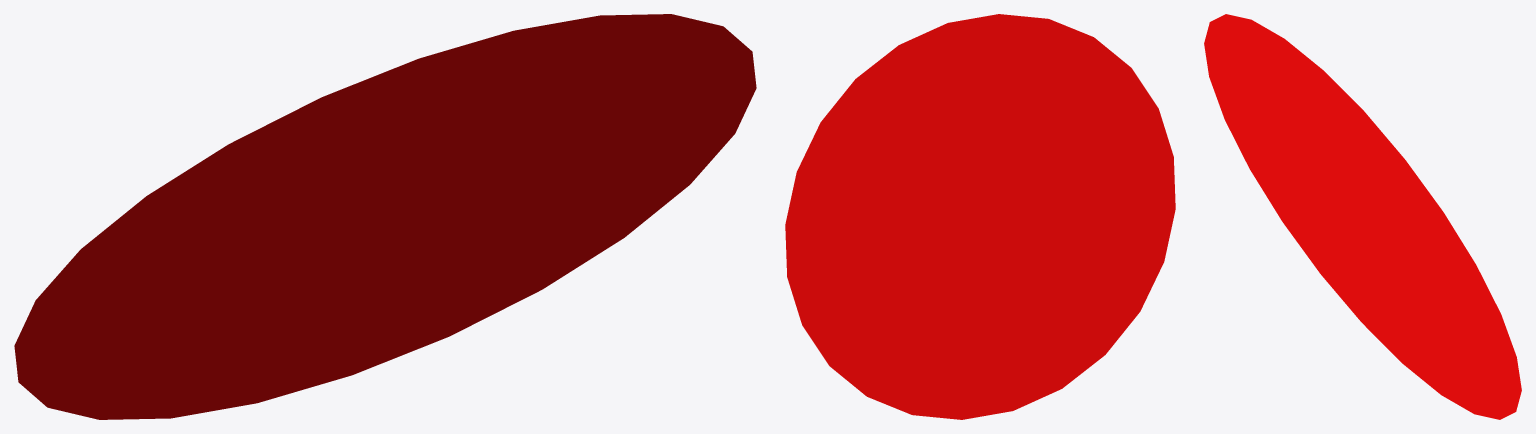
File: original-3.obj
3 views of the same model, side by side, from view 1: azimuth 30°, elevation 25°; view 2: azimuth 150°, elevation 25°; view 3: azimuth 270°, elevation 25° (orthographic). The views are drawn at different scales.
Visible parts, largest first — view 1: mesh6/mesh6-geometry#mesh6-geometry; view 2: mesh6/mesh6-geometry#mesh6-geometry; view 3: mesh6/mesh6-geometry#mesh6-geometry.
Boxes of the visible parts, x1,y1,x2,y2 form: mesh6/mesh6-geometry#mesh6-geometry: [14, 14, 756, 419]; mesh6/mesh6-geometry#mesh6-geometry: [785, 14, 1175, 419]; mesh6/mesh6-geometry#mesh6-geometry: [1204, 14, 1521, 419].
Size of the model in its own units: 0.0387 by 0.0298 by 0.0247.
